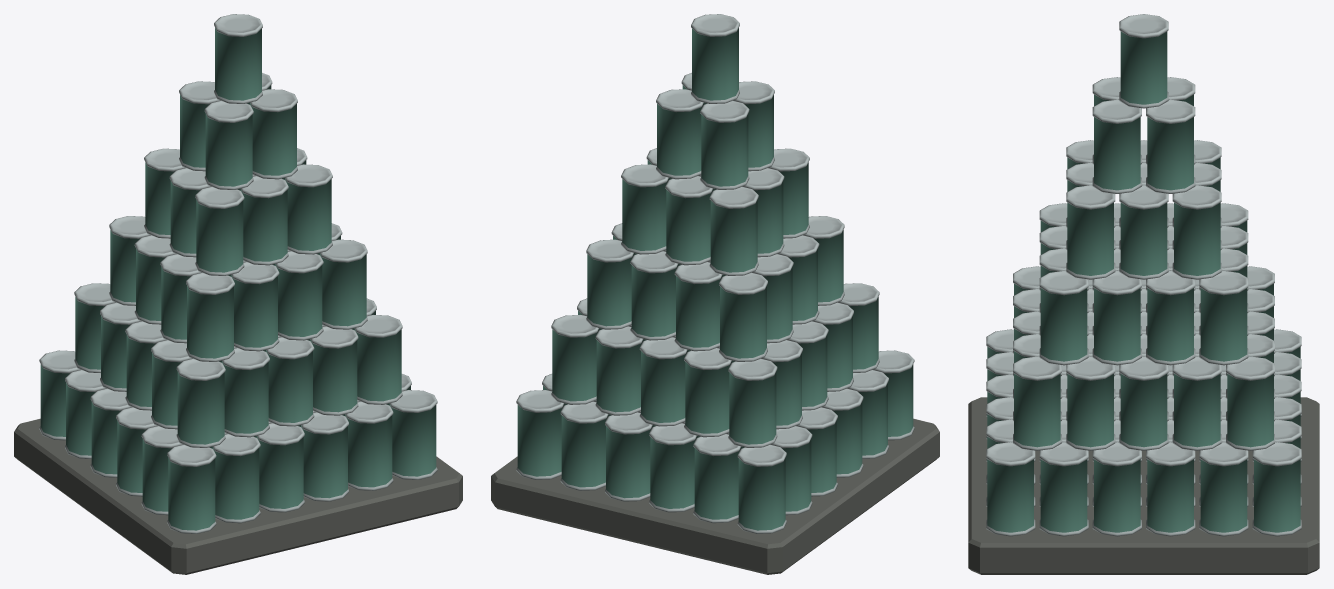
3 views of the same model, side by side, from view 1: azimuth 30°, elevation 25°; view 2: azimuth 150°, elevation 25°; view 3: azimuth 270°, elevation 25° (orthographic). The views are drawn at different scales.
Visible parts, largest first — view 1: CANS_BatchedDisplay, BASE_ChamferedPlinth; view 2: CANS_BatchedDisplay, BASE_ChamferedPlinth; view 3: CANS_BatchedDisplay, BASE_ChamferedPlinth.
Part boxes in pixels (x1,y1,x2,y2): CANS_BatchedDisplay: (39,14,437,533); BASE_ChamferedPlinth: (14,418,462,574); CANS_BatchedDisplay: (516,14,914,533); BASE_ChamferedPlinth: (491,418,939,574); CANS_BatchedDisplay: (986,14,1301,536); BASE_ChamferedPlinth: (968,397,1319,574).
Size of the model in its own units: 1.2 by 1.8 by 1.2.
